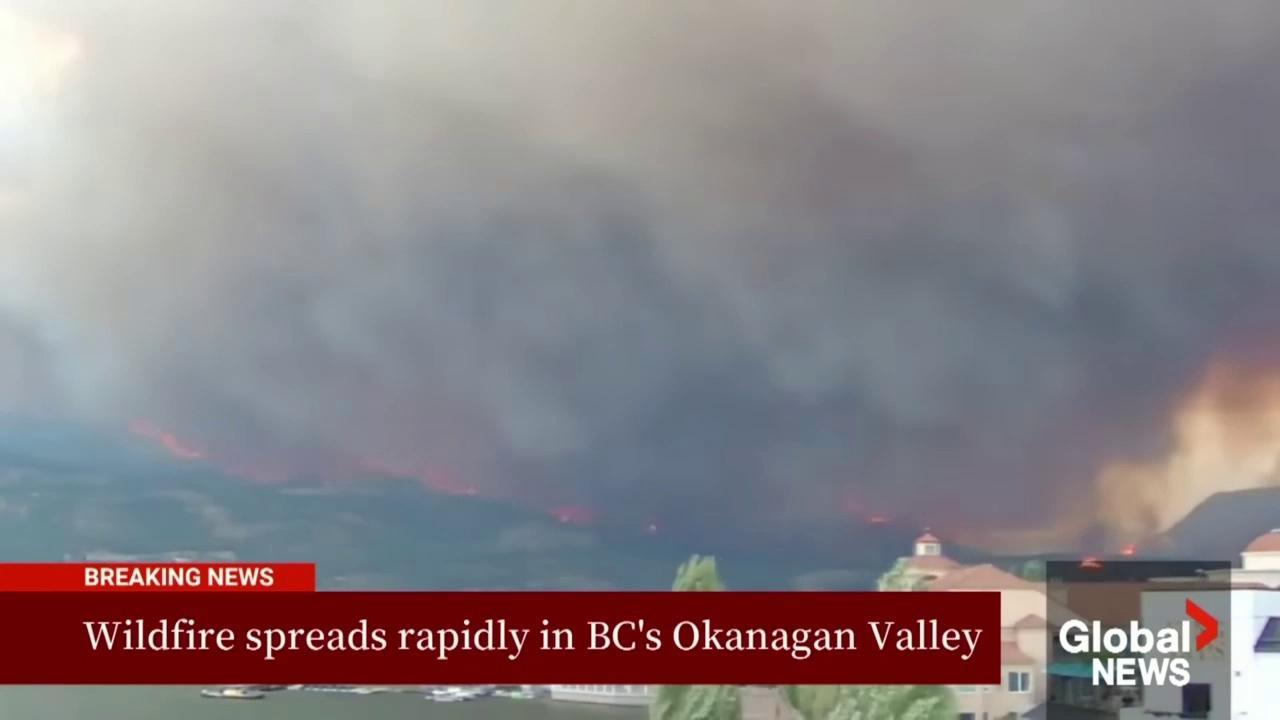fire: (356, 454, 478, 498), (125, 420, 209, 461), (549, 507, 591, 527), (1076, 554, 1106, 568), (1119, 543, 1136, 559), (868, 516, 895, 524), (646, 523, 658, 534)
smoke: (0, 0, 1280, 570)
